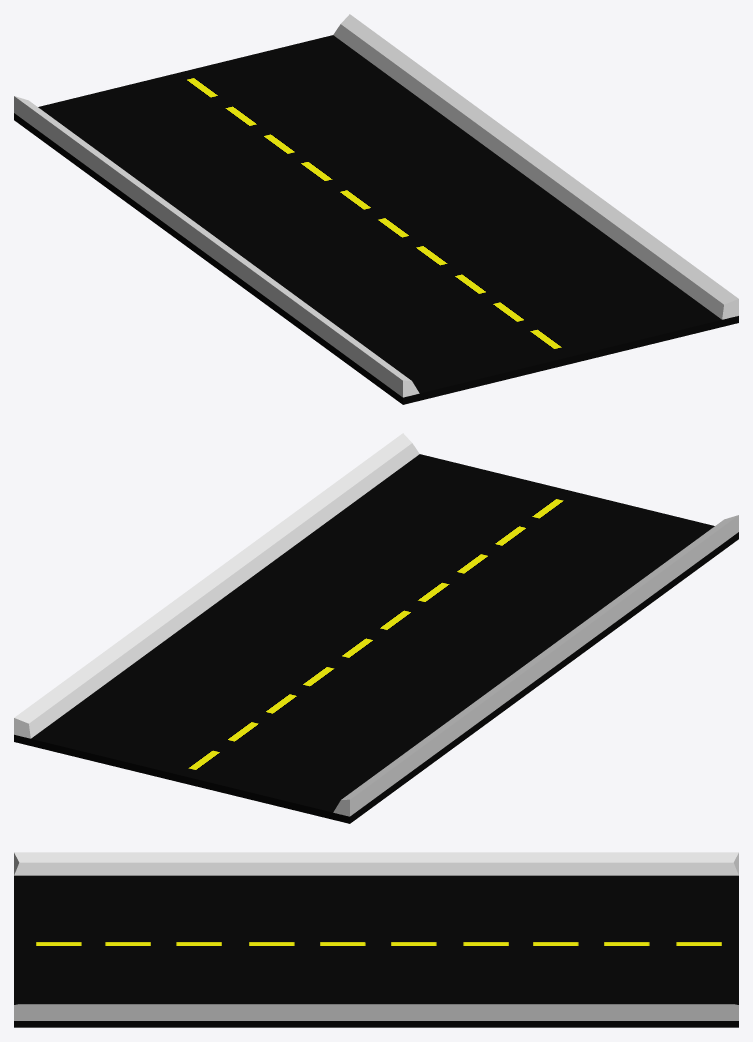
The model's file is Street.FBX.
3 renders of one model, top to bottom at view 1: azimuth 30°, elevation 25°; view 2: azimuth 150°, elevation 25°; view 3: azimuth 270°, elevation 25°, orthographic. The views are drawn at different scales.
Parts seen in each view (by area): view 1: Street, Curb001, Curb; view 2: Street, Curb001, Curb; view 3: Street, Curb, Curb001.
Boxes of the visible parts, x1=… form: Street: x1=14, y1=35, x2=738, y2=404; Curb001: x1=333, y1=14, x2=738, y2=319; Curb: x1=14, y1=96, x2=419, y2=397; Street: x1=14, y1=454, x2=738, y2=823; Curb001: x1=14, y1=433, x2=419, y2=738; Curb: x1=333, y1=515, x2=738, y2=816; Street: x1=14, y1=875, x2=738, y2=1027; Curb: x1=14, y1=852, x2=738, y2=875; Curb001: x1=14, y1=1004, x2=738, y2=1020.
Bounding box in the file's own units: 96.09 × 6.61 × 193.
Materials: 1 (1 with a texture image).
